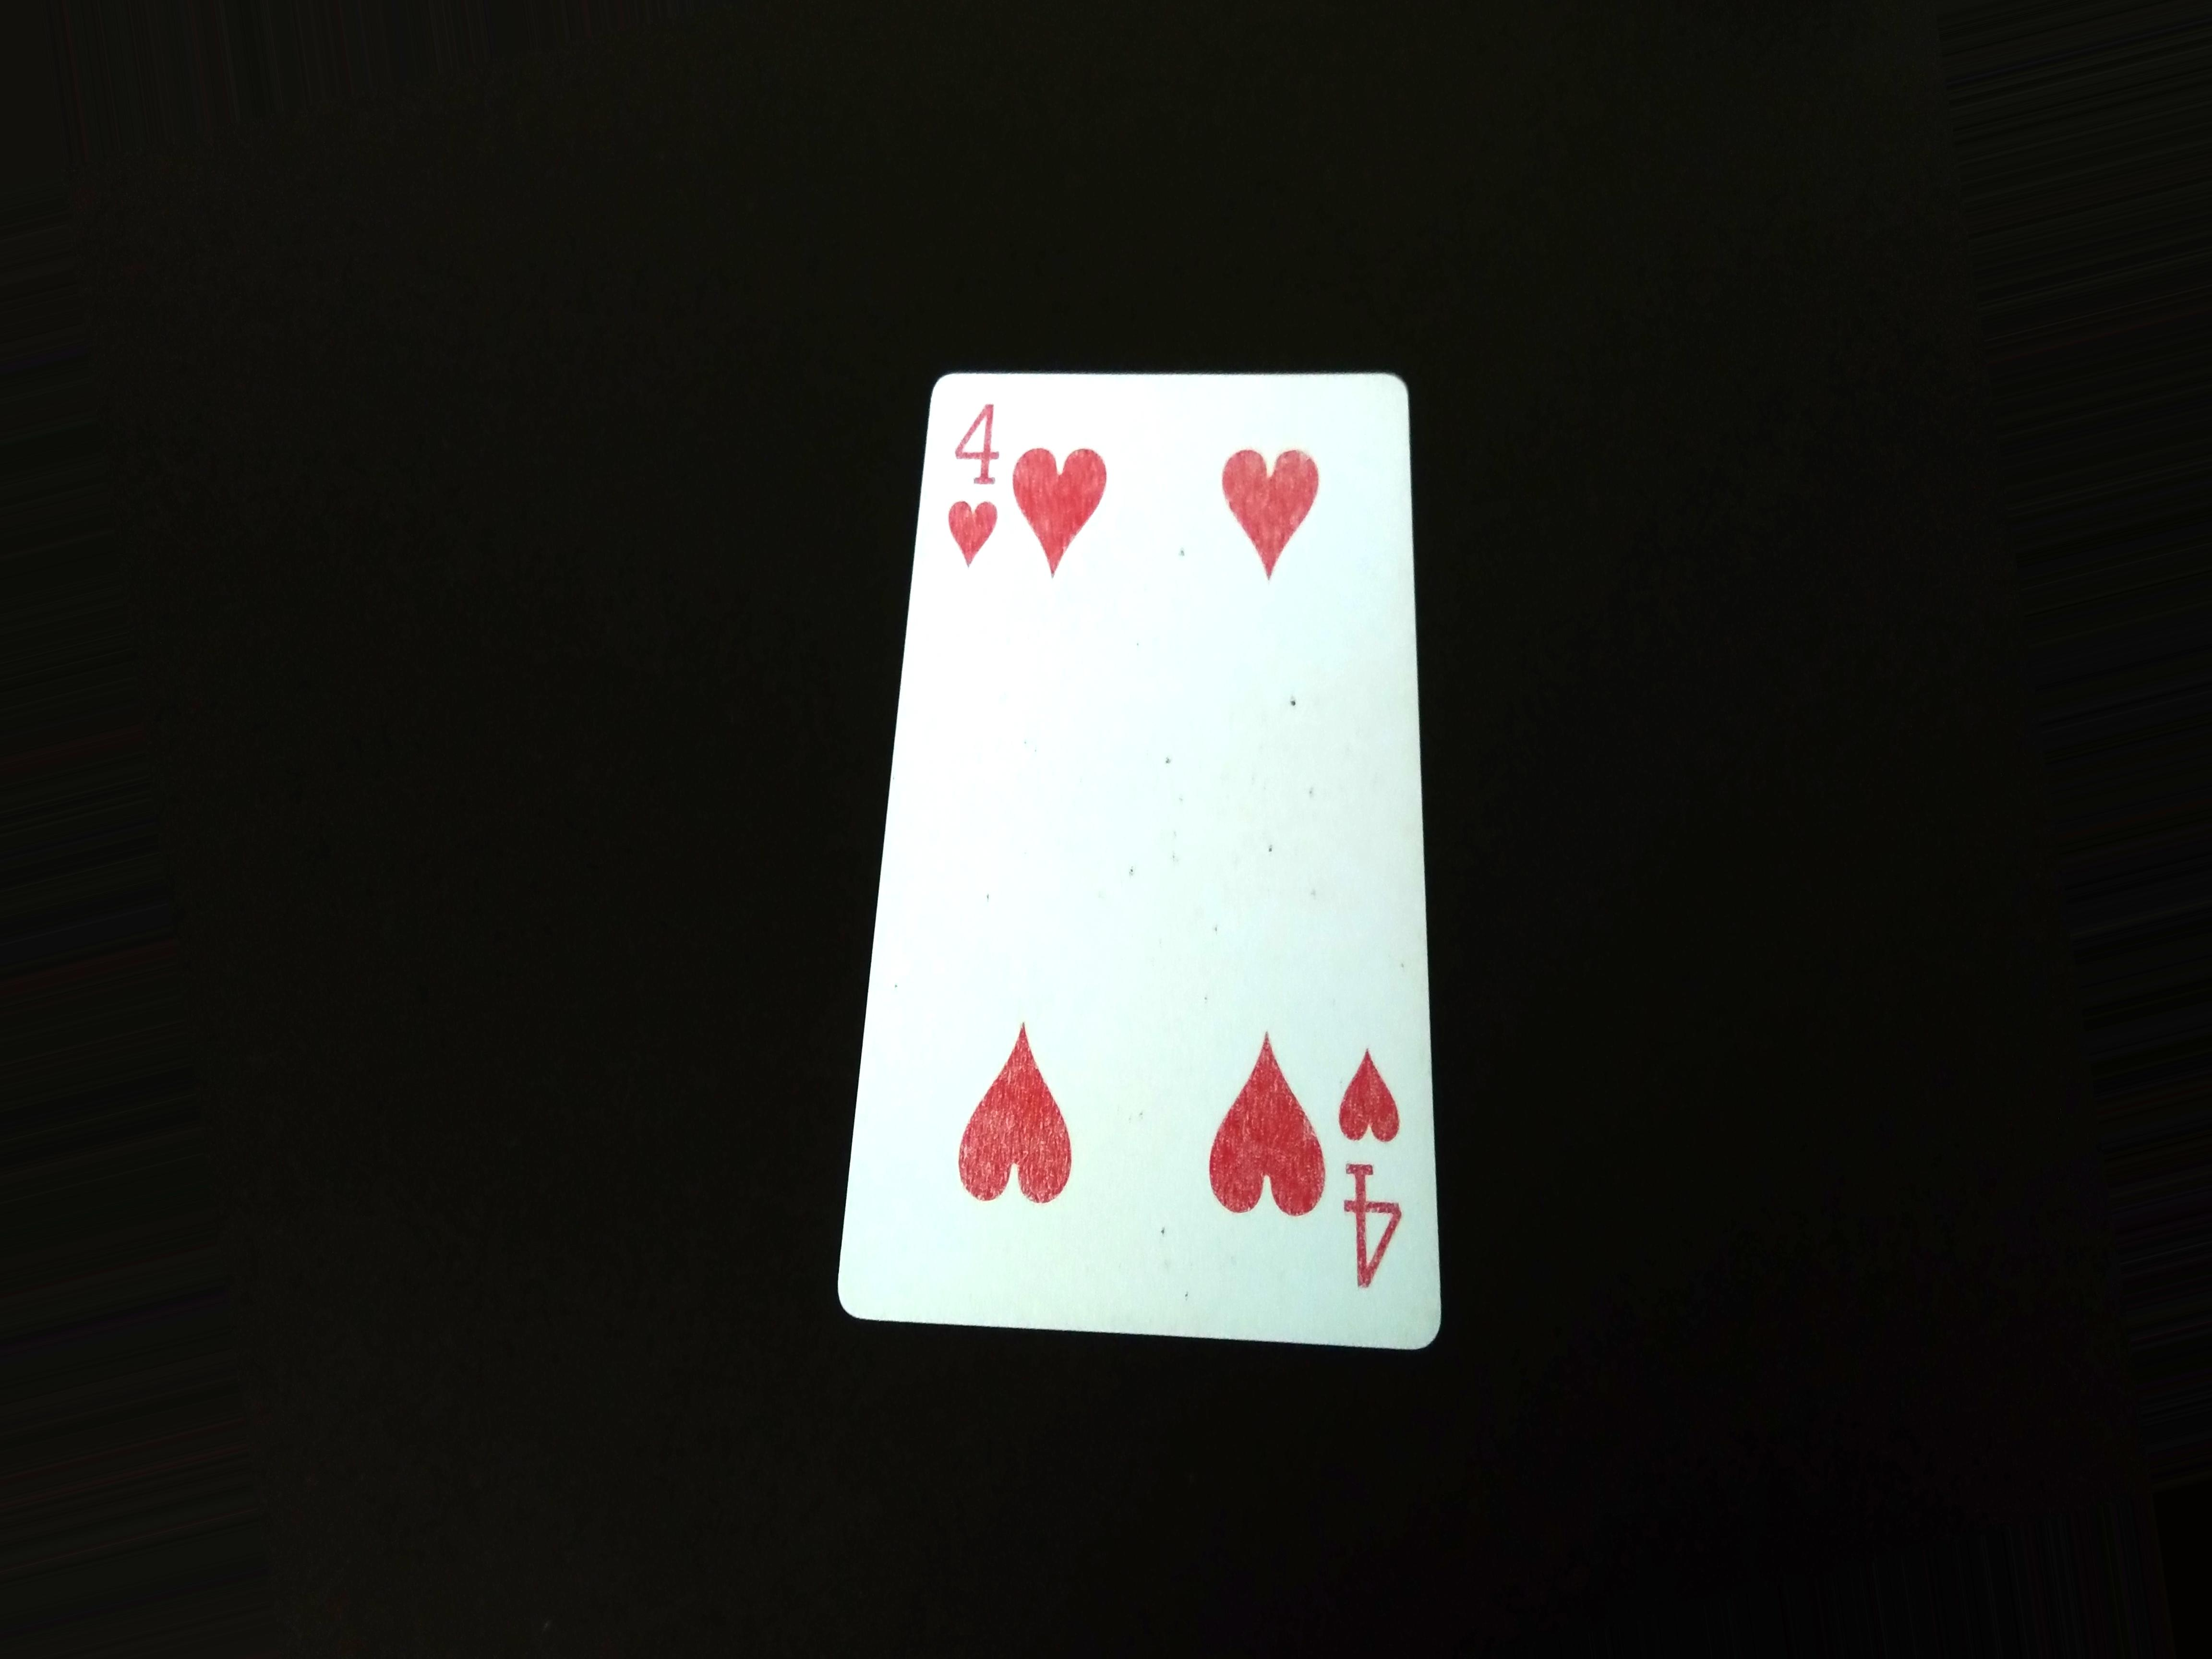4H: (944, 390, 1015, 594)
